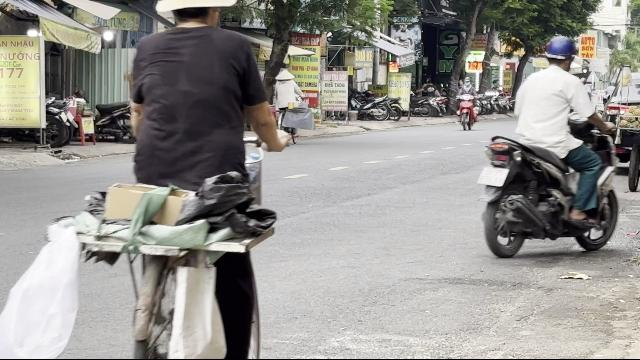helmet: (542, 34, 578, 70)
licenseplate: (478, 167, 507, 185)
motorcyclist: (477, 35, 625, 265)
